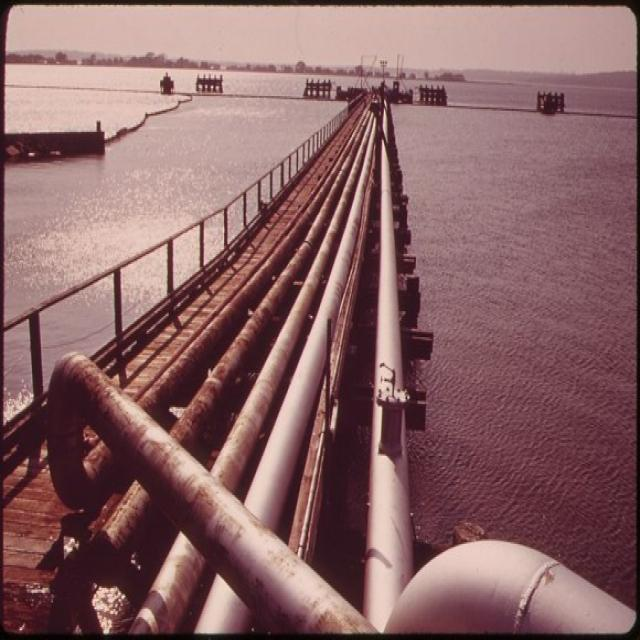gas: (2, 92, 511, 634), (245, 179, 366, 529), (211, 239, 331, 490), (364, 110, 412, 630)
